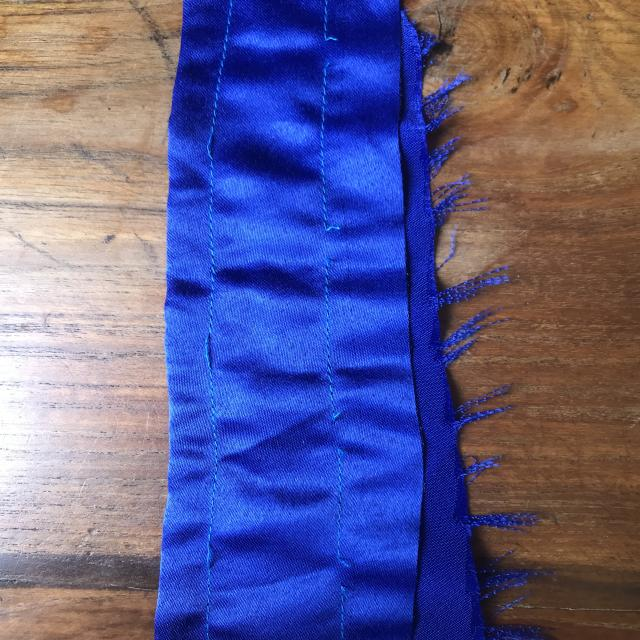skip: (189, 317, 234, 395), (197, 110, 229, 172)
